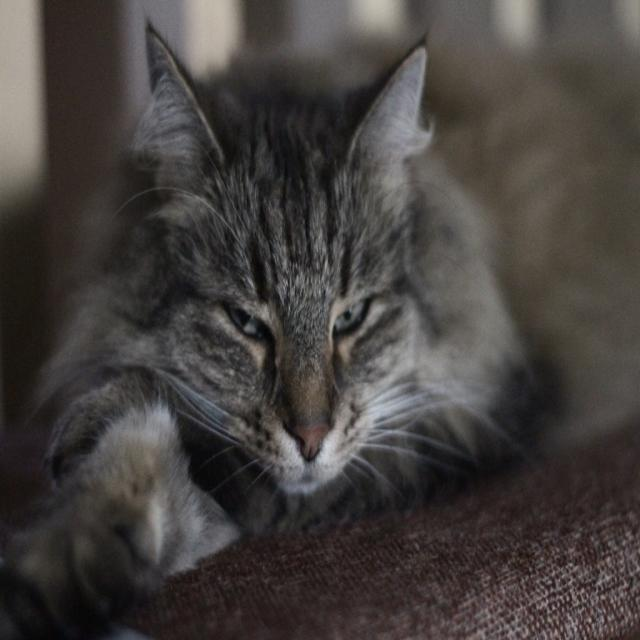Cat: (0, 17, 639, 638)
